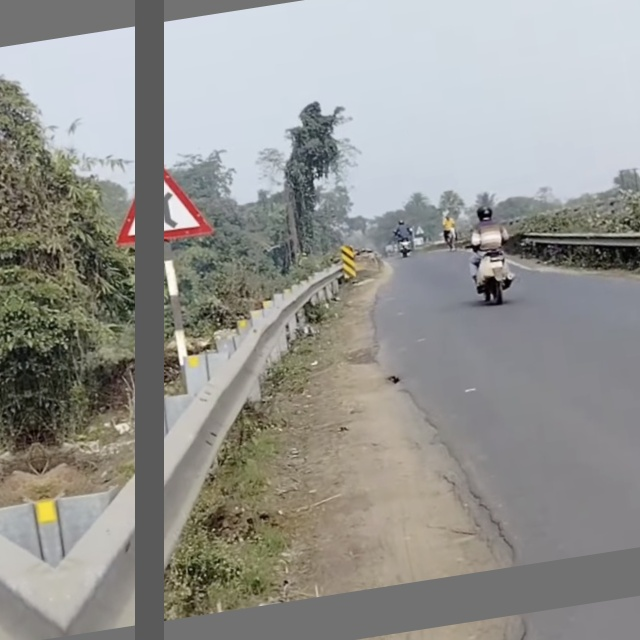Narrow_Bridge: (110, 149, 216, 250)
